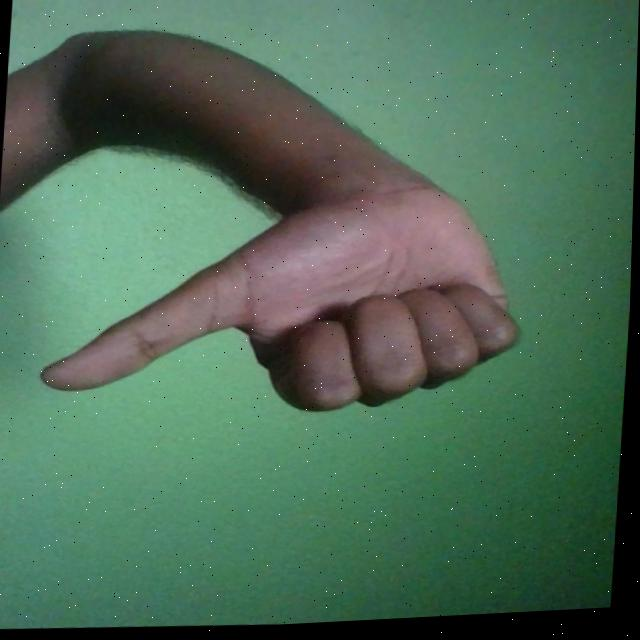Dislike: (37, 170, 527, 432)
